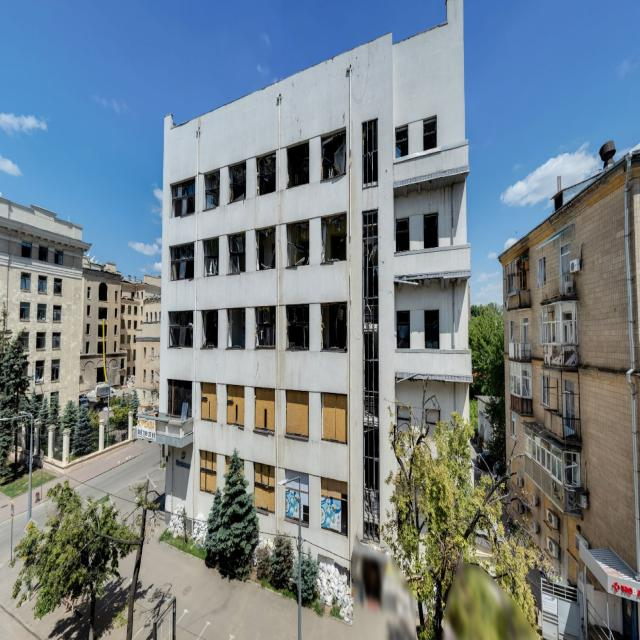broken_window: (320, 127, 346, 181), (320, 301, 347, 352), (361, 118, 378, 188), (286, 140, 309, 189), (286, 220, 309, 268), (255, 226, 276, 270), (256, 151, 276, 196), (228, 160, 246, 203)
building: (155, 0, 473, 598), (497, 140, 639, 636), (0, 195, 92, 460)
